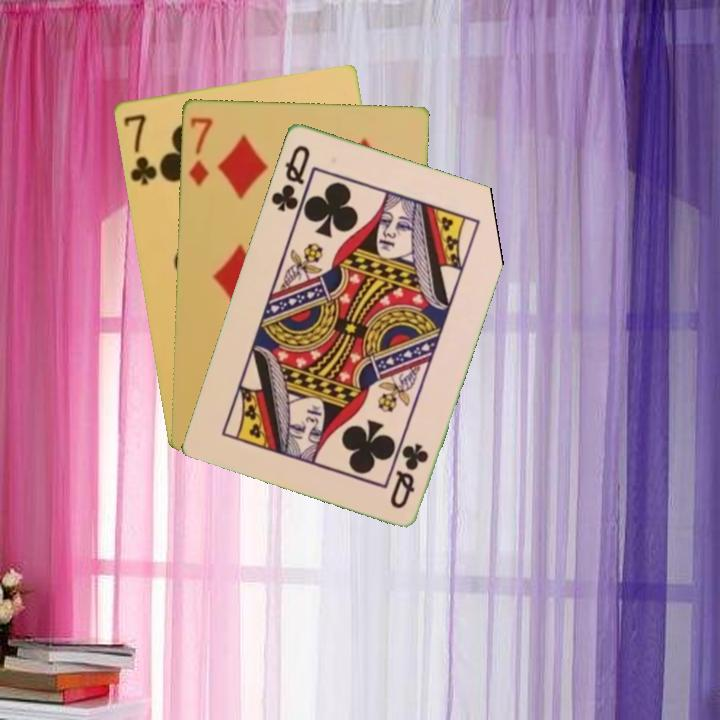7c: (120, 110, 160, 188)
7d: (185, 114, 215, 188)
Qc: (267, 141, 313, 214), (386, 439, 431, 511)
